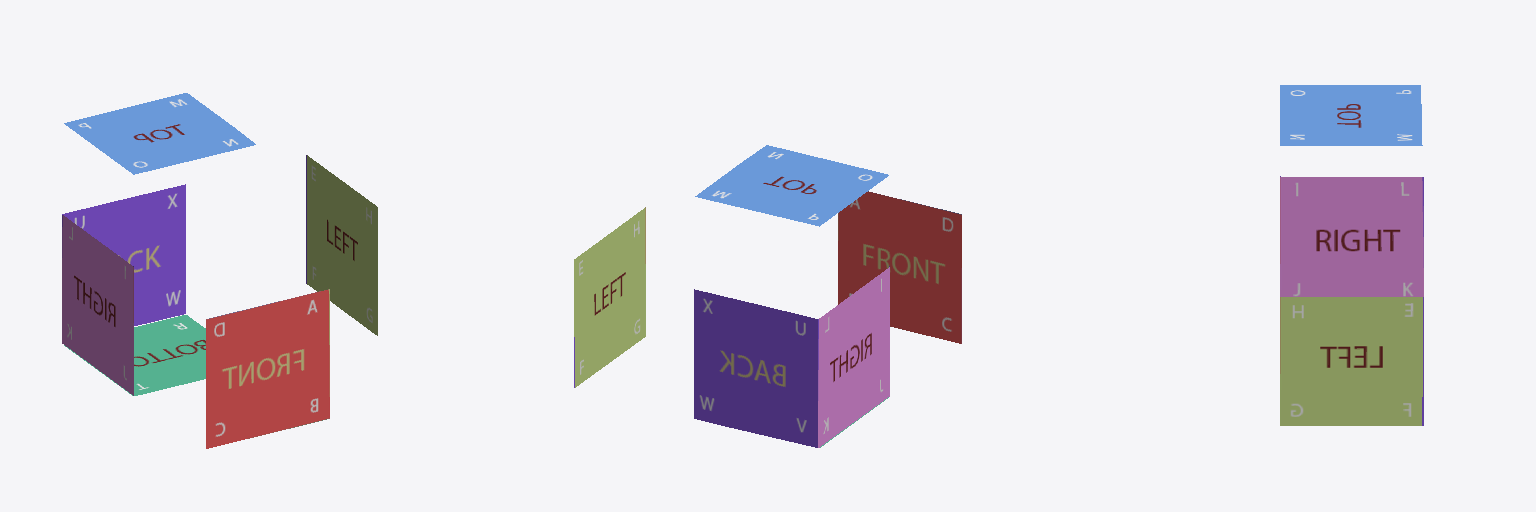
The picture shows the model from 3 angles: view 1: azimuth 30°, elevation 25°; view 2: azimuth 150°, elevation 25°; view 3: azimuth 270°, elevation 25°; orthographic projection.
Visible parts, largest first — view 1: Cube; view 2: Cube; view 3: Cube.
Boxes of the visible parts, <box> form: Cube: <box>62,93,377,448</box>; Cube: <box>574,145,961,447</box>; Cube: <box>1280,85,1423,425</box>.
Size of the model in its own units: 3.94 by 3.41 by 4.
Materials: 1 (1 with a texture image).